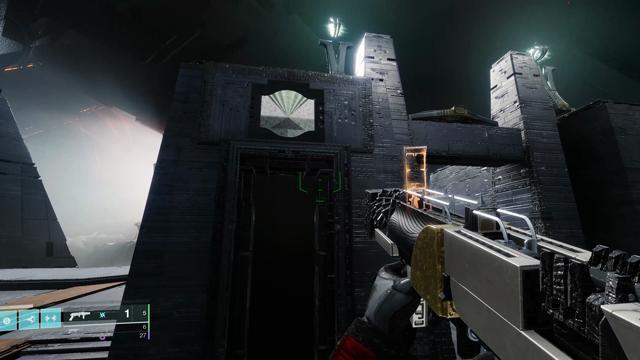commune: (260, 90, 315, 137)
